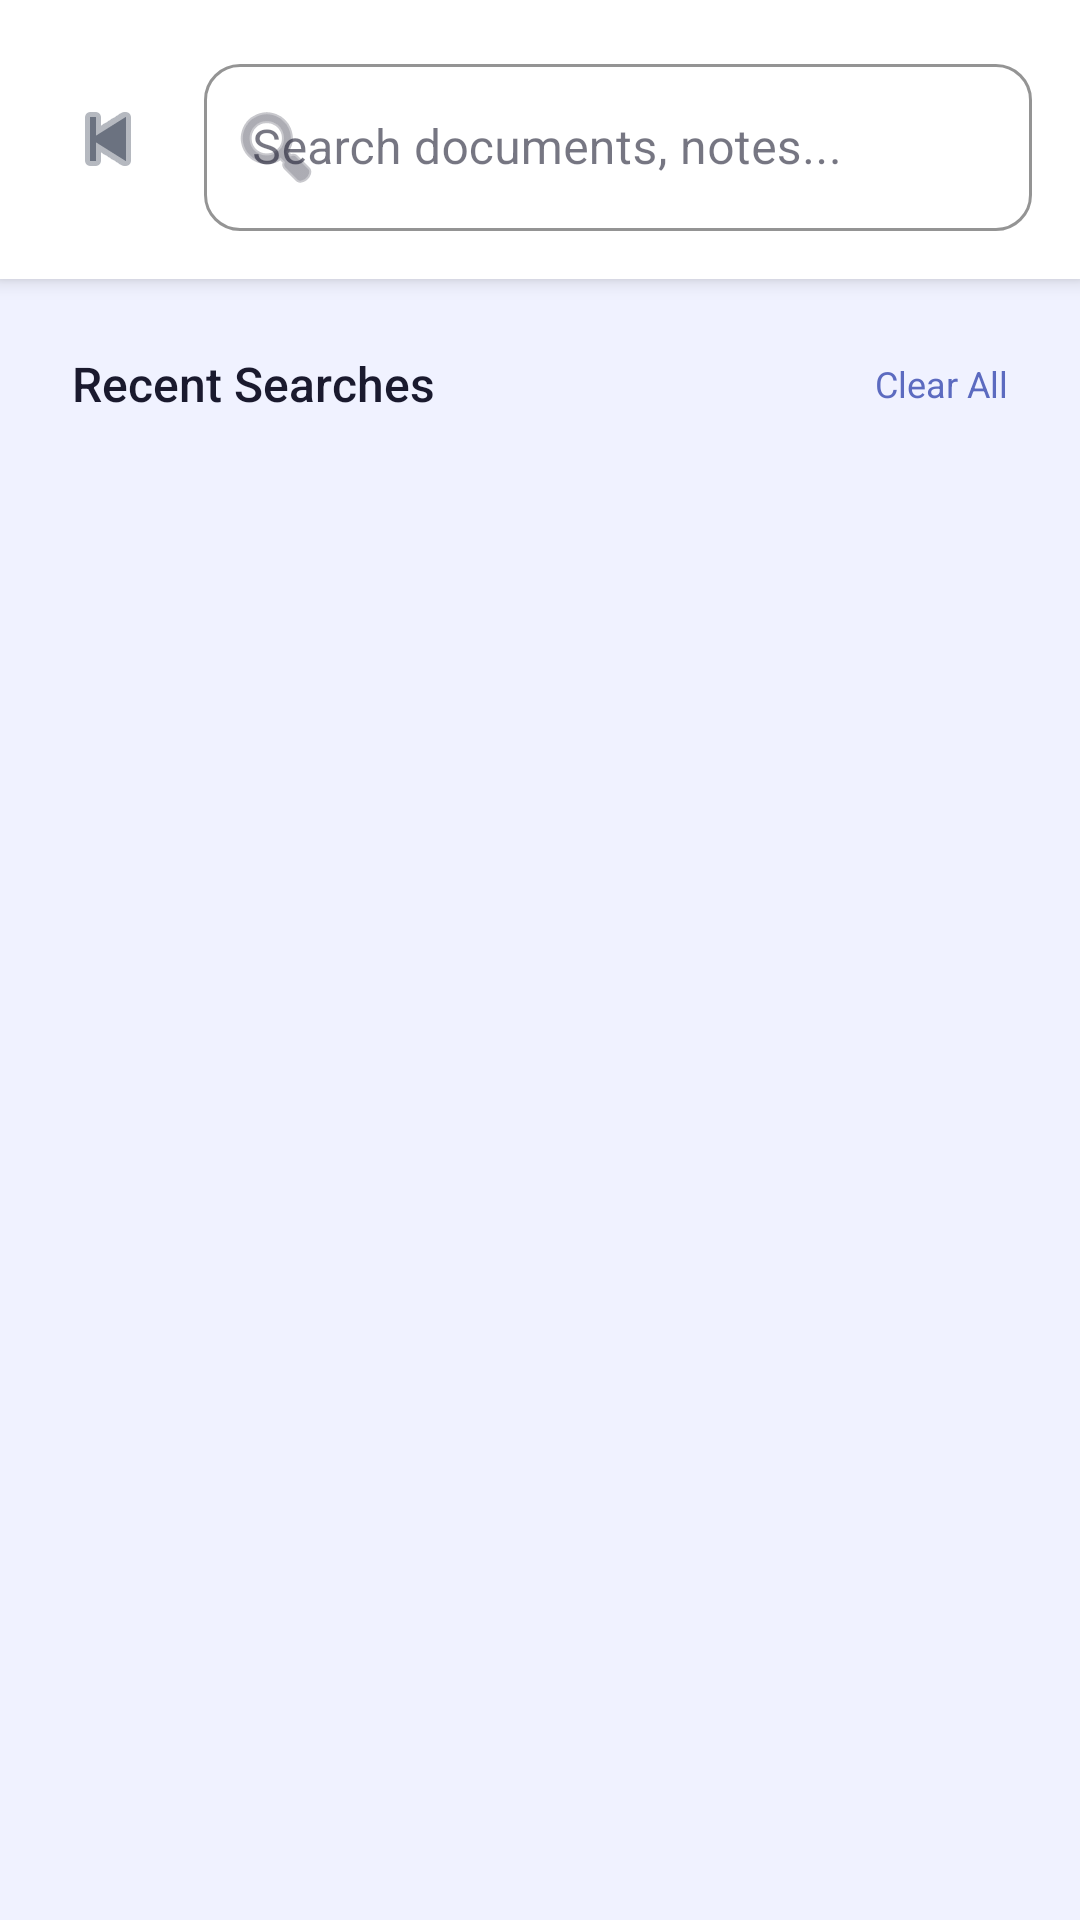

Where icons sit on this 1080px x 1920px app screen, as (x1, y1, x2, y2):
Back: (85, 112, 131, 166)
